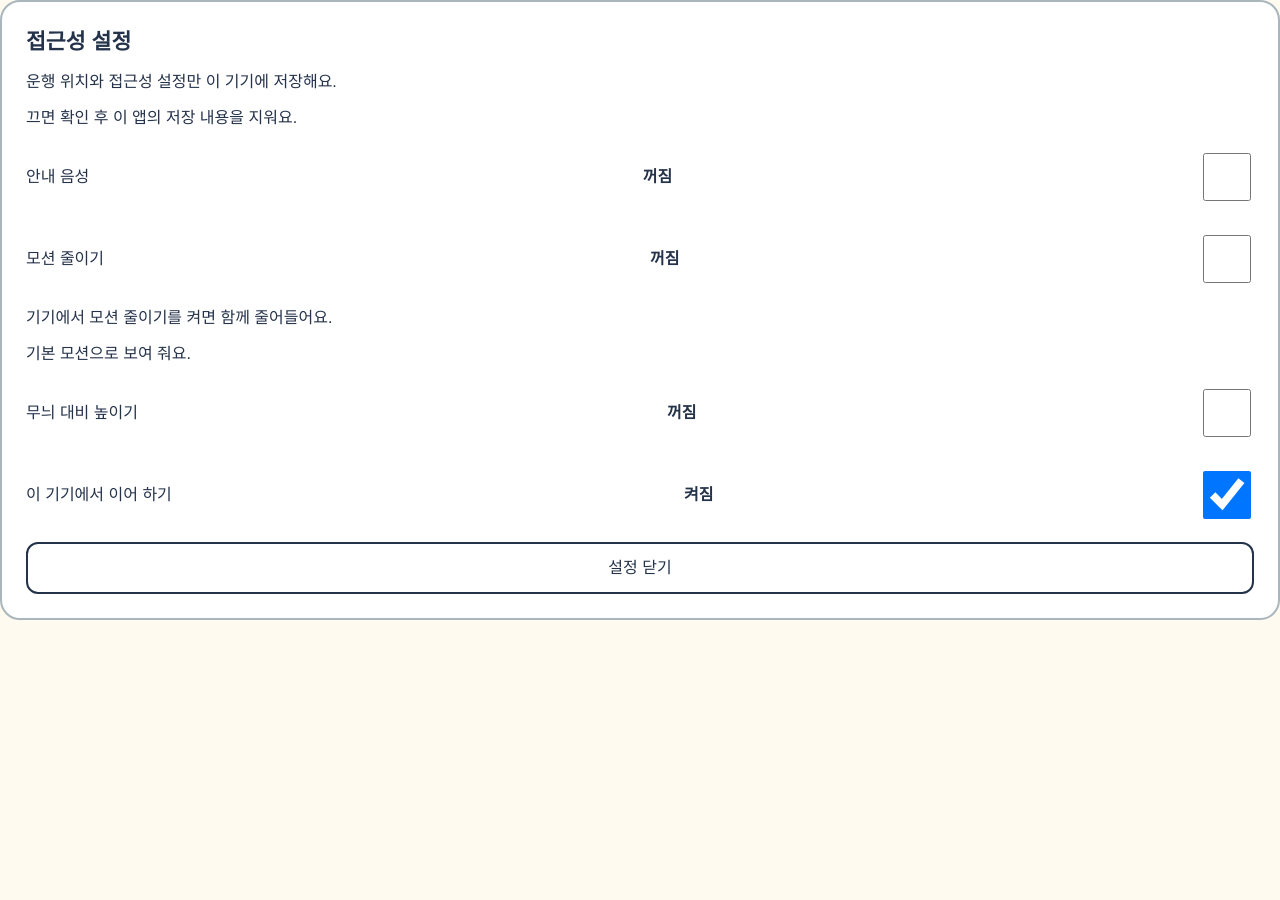
it: 접근성 설정 › 확인 패널은 첫 동작에 초점을 주고 Tab을 안에서 순환하며 Escape로 닫는다
The width and height of the screenshot is (1280, 900).
Step 1. Click the switch labelled "이 기기에서 이어 하기" → (1227, 495), box x1=1203 y1=471 x2=1251 y2=519
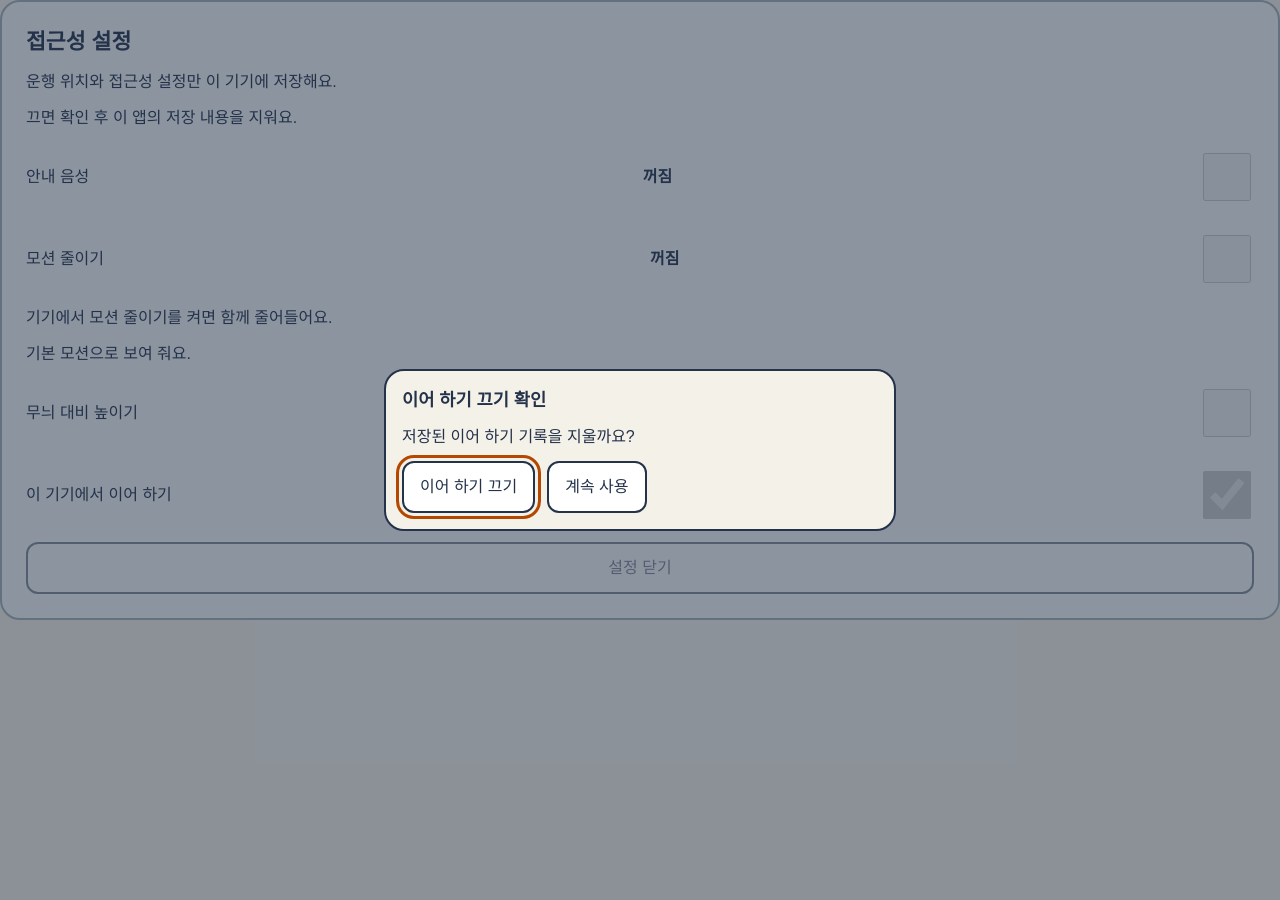
Step 2. Press Tab
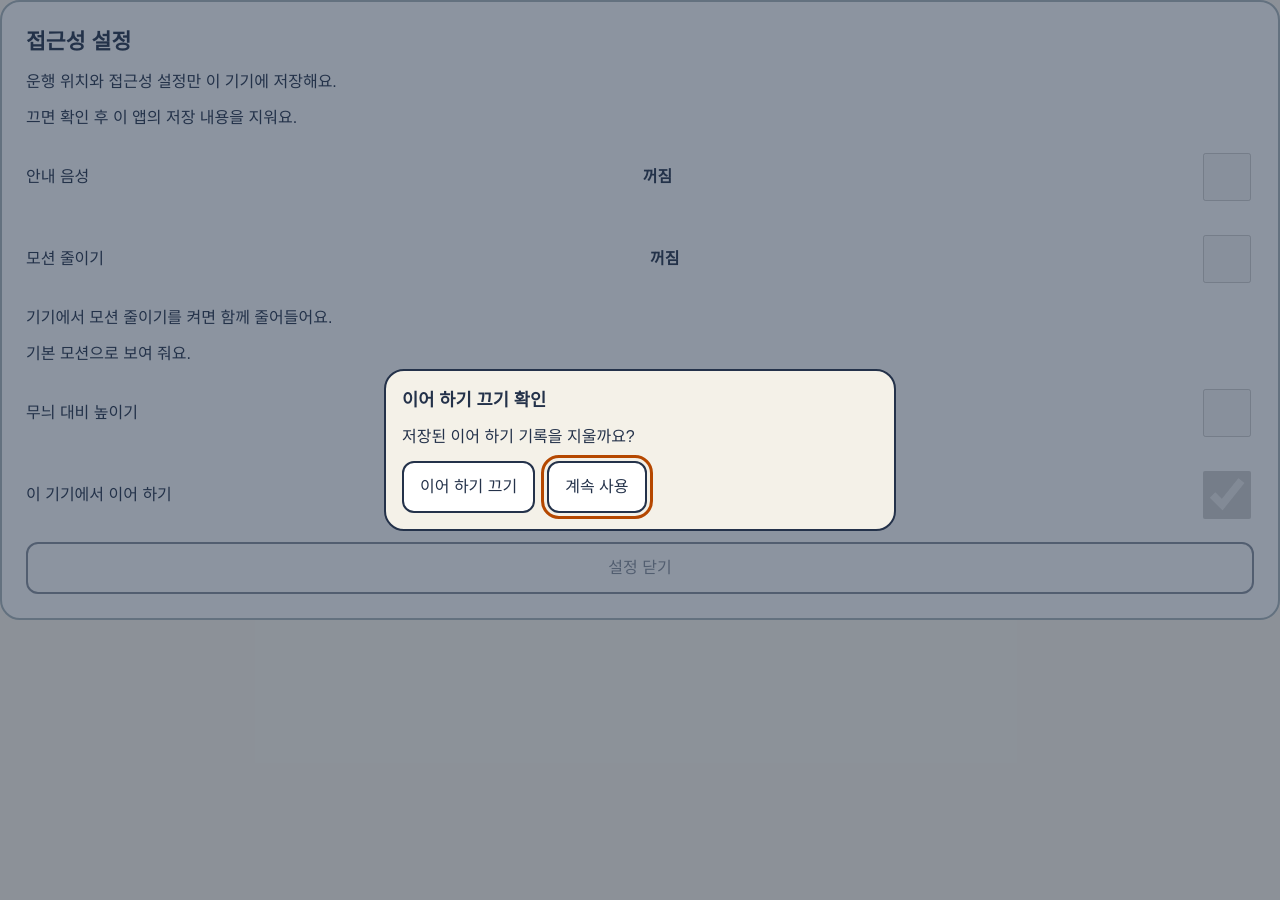
Step 3. Press Tab
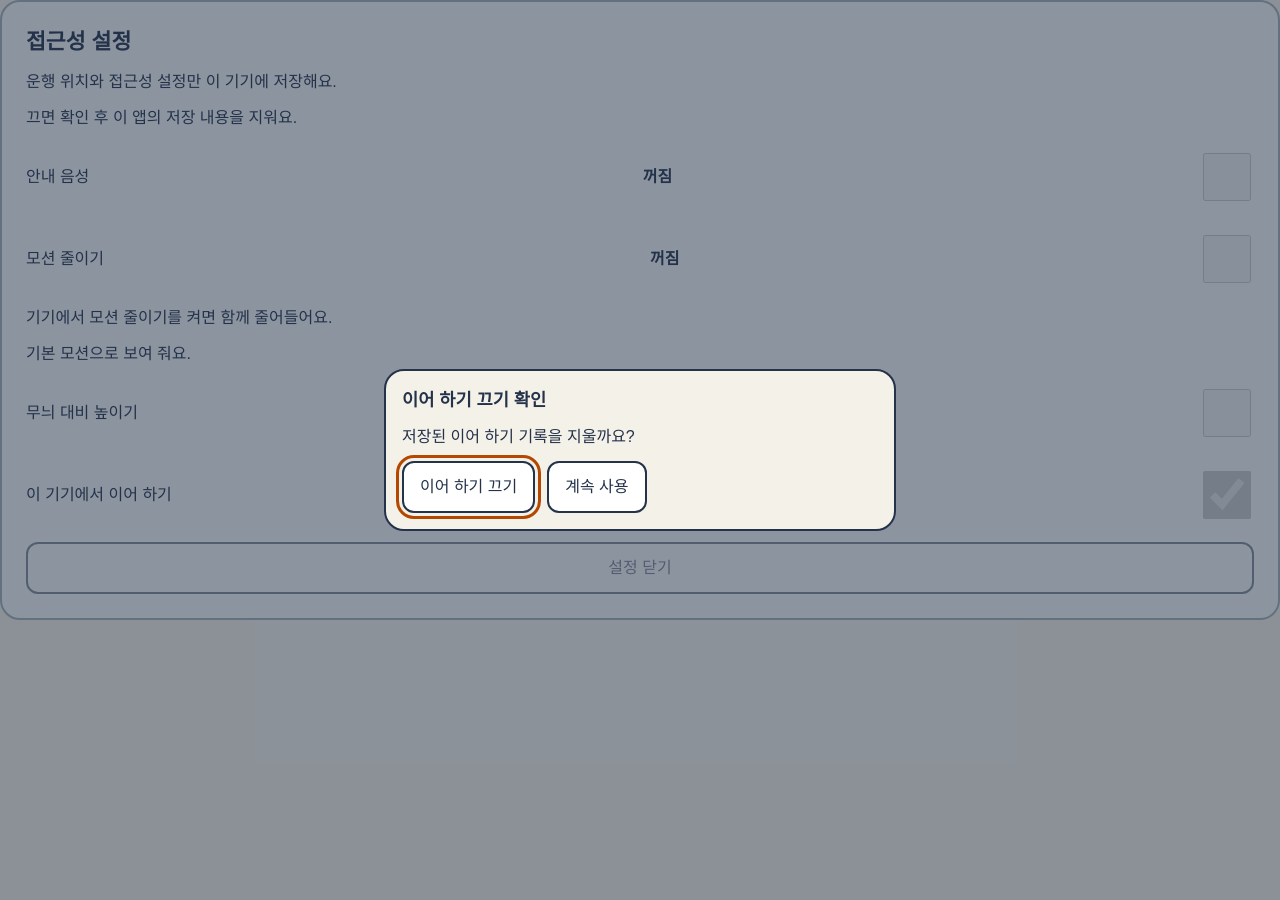
Step 4. Press Shift+Tab
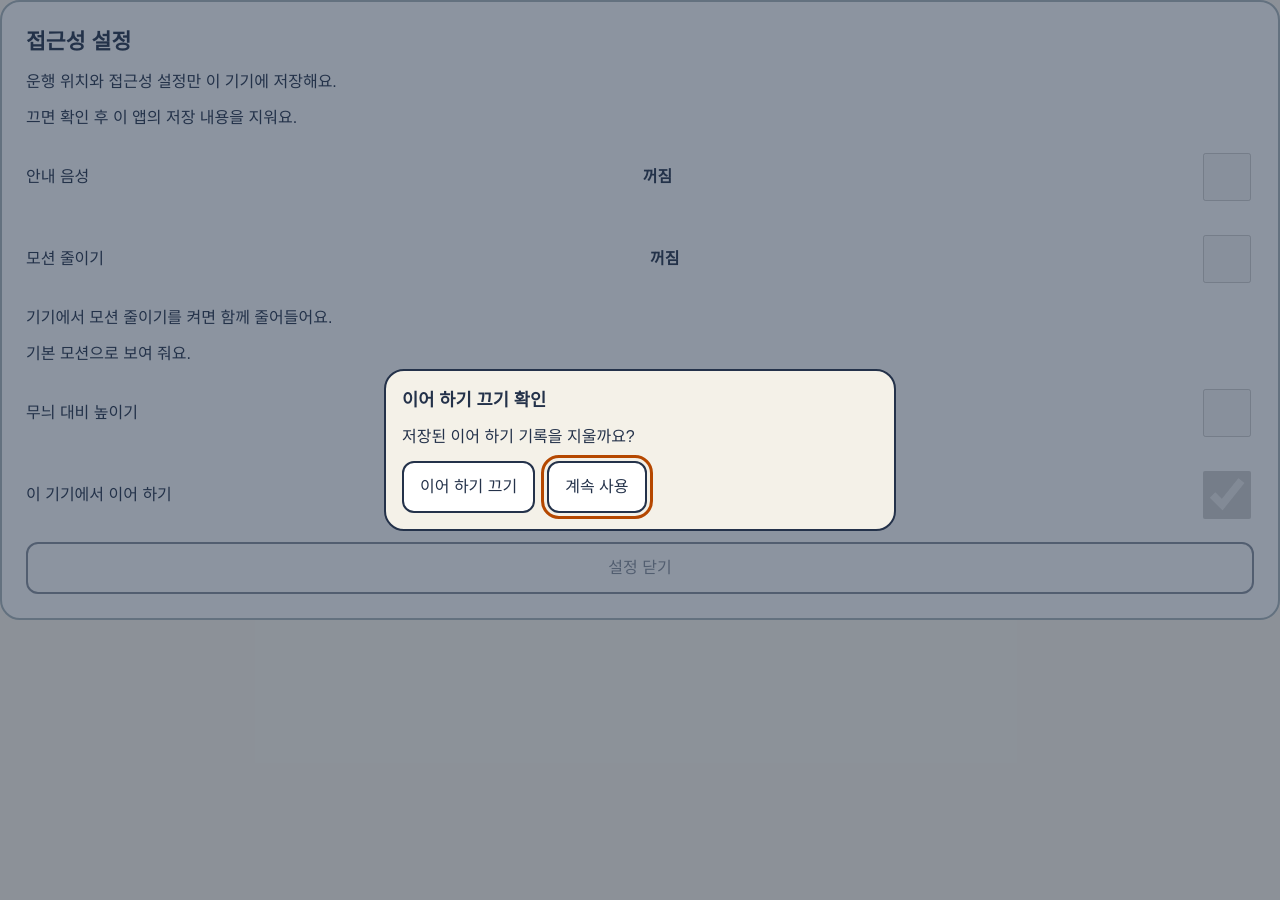
Step 5. Press Escape
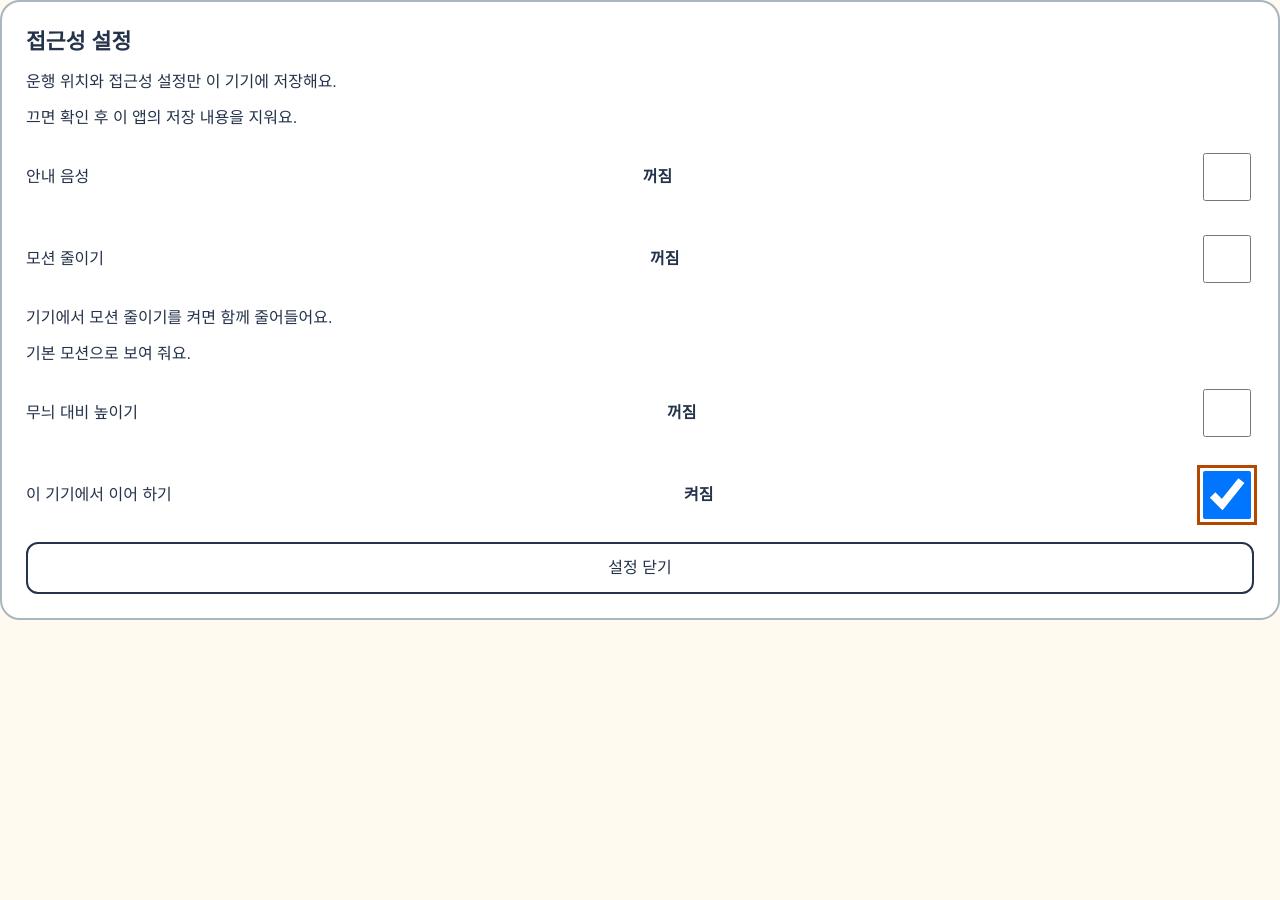
Expected: the heading "이어 하기 끄기 확인" is gone
